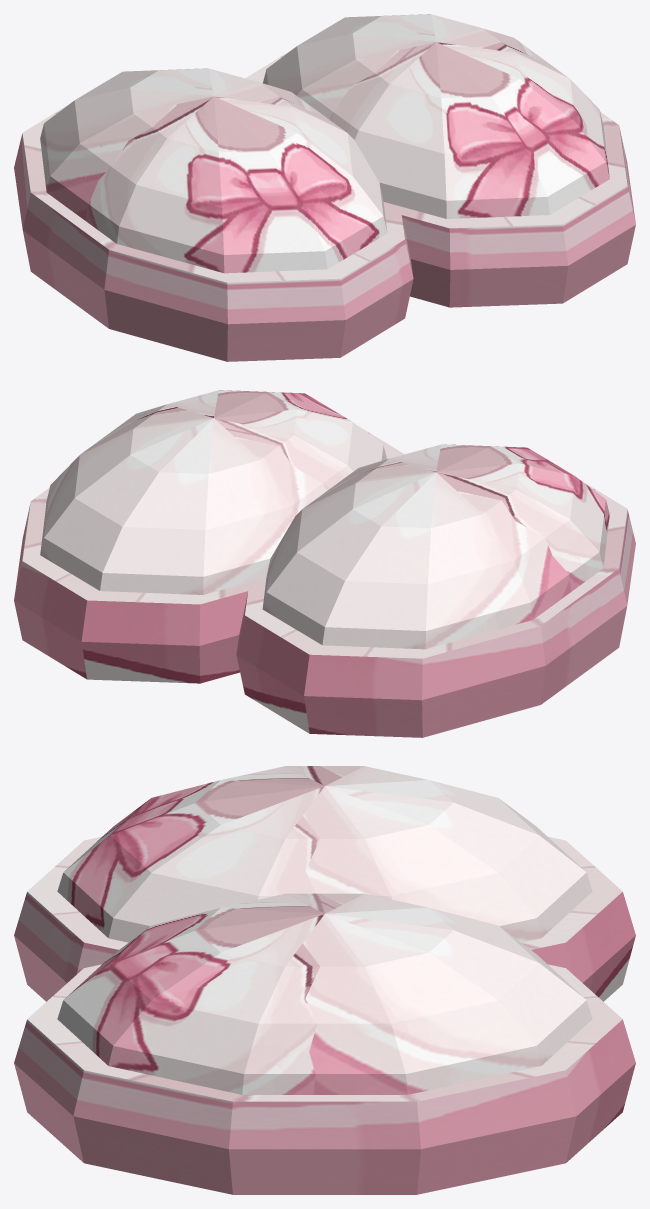
File: outfit_shoes.obj
3 renders of one model, top to bottom at view 1: azimuth 30°, elevation 25°; view 2: azimuth 150°, elevation 25°; view 3: azimuth 270°, elevation 25°, orthographic. The views are drawn at different scales.
Parts seen in each view (by area): view 1: shoes_upper_ankle_R, shoes_upper_ankle_L, shoes_sole_ankle_R, shoes_sole_ankle_L; view 2: shoes_upper_ankle_R, shoes_upper_ankle_L, shoes_sole_ankle_R, shoes_sole_ankle_L; view 3: shoes_upper_ankle_L, shoes_sole_ankle_L, shoes_upper_ankle_R, shoes_sole_ankle_R.
Part boxes in pixels (bbox=[...]): shoes_upper_ankle_R: bbox=[40, 68, 387, 273]; shoes_upper_ankle_L: bbox=[263, 14, 609, 218]; shoes_sole_ankle_R: bbox=[14, 105, 413, 361]; shoes_sole_ankle_L: bbox=[245, 51, 635, 307]; shoes_upper_ankle_R: bbox=[262, 444, 609, 649]; shoes_upper_ankle_L: bbox=[40, 390, 386, 594]; shoes_sole_ankle_R: bbox=[236, 481, 635, 737]; shoes_sole_ankle_L: bbox=[14, 427, 404, 683]; shoes_upper_ankle_L: bbox=[57, 893, 592, 1094]; shoes_sole_ankle_L: bbox=[14, 964, 635, 1194]; shoes_upper_ankle_R: bbox=[57, 766, 592, 942]; shoes_sole_ankle_R: bbox=[14, 836, 635, 1001].
Bounding box in the file's own units: 0.2351 × 0.0725 × 0.2059.
1 material, 1 textured.
